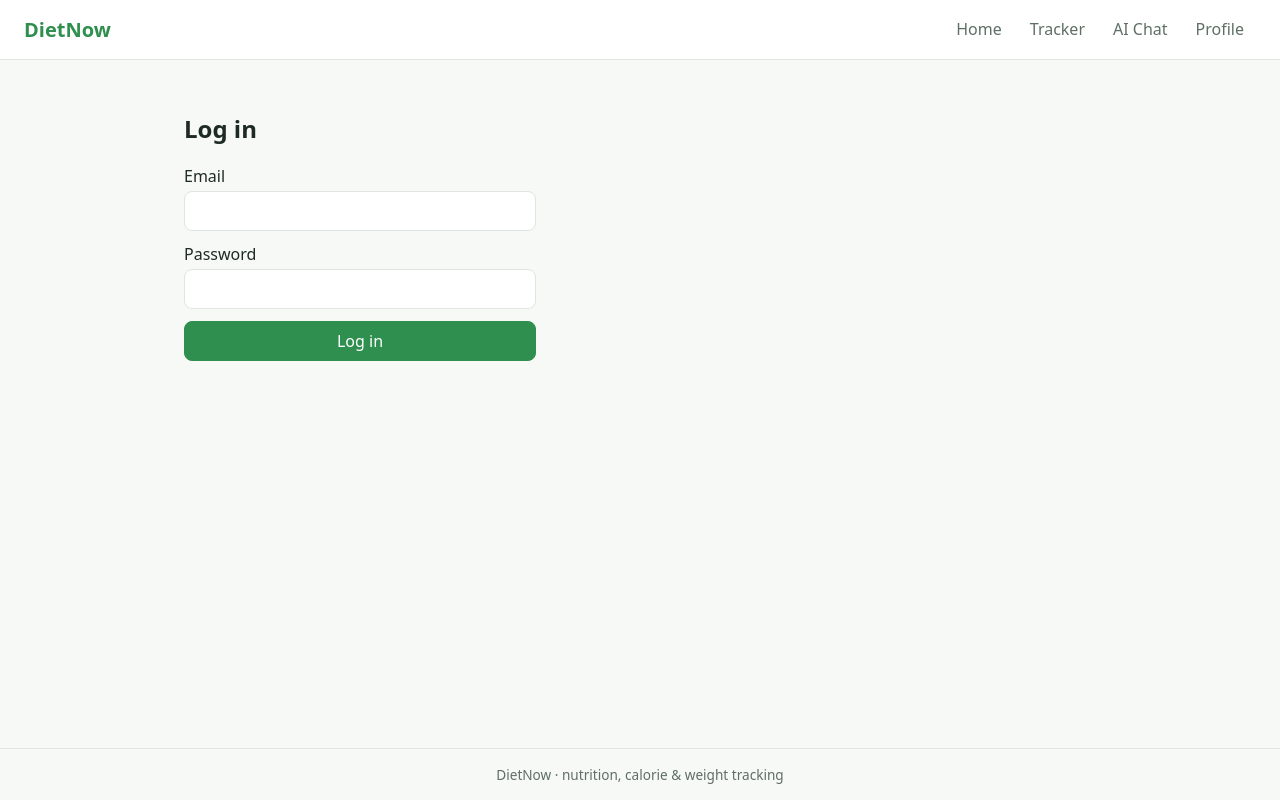
updates navigation after submitting /login despite a late session lookup
This screenshot has width=1280, height=800.
In the field labelled "Email": (360, 211) [184,191,536,231], type "test@dietnow.app"
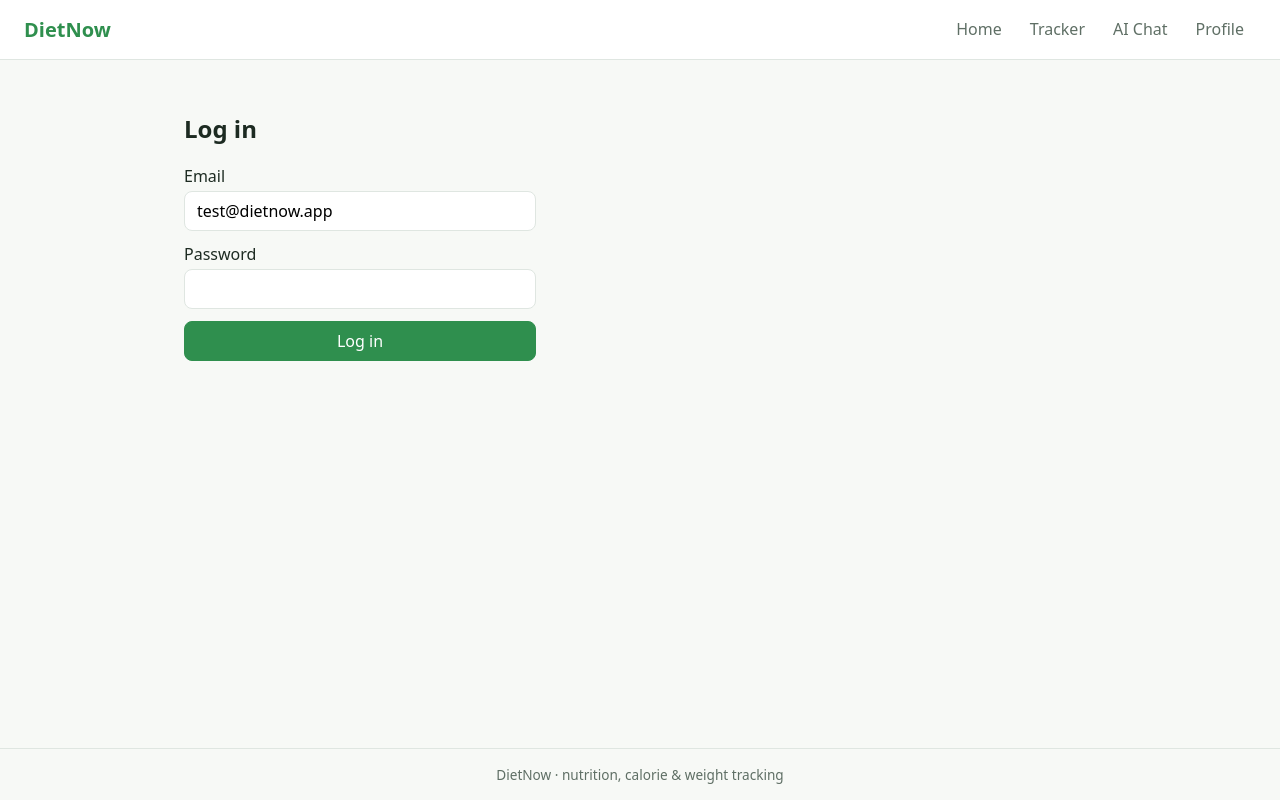
In the password field labelled "Password": (360, 289) [184,269,536,309], type "Password123!"
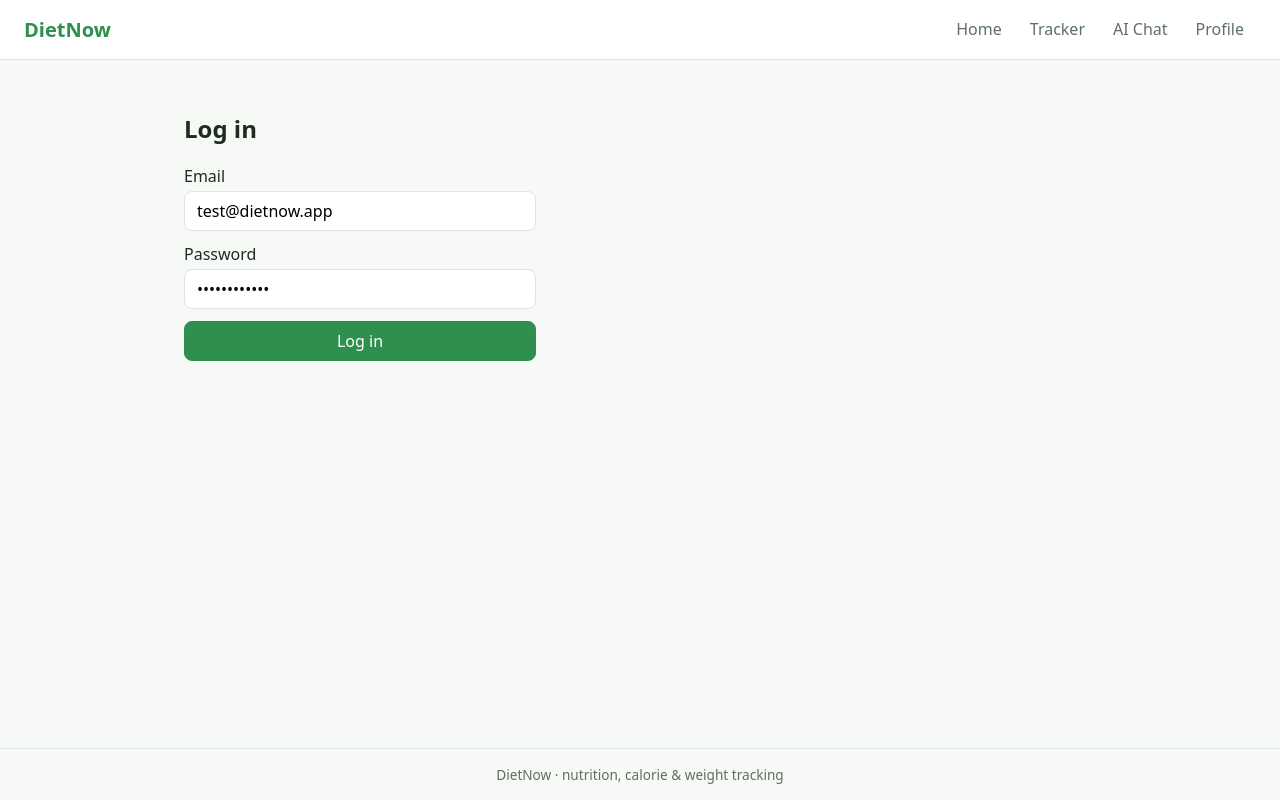
Click the button "Log in": (360, 341) [184,321,536,361]
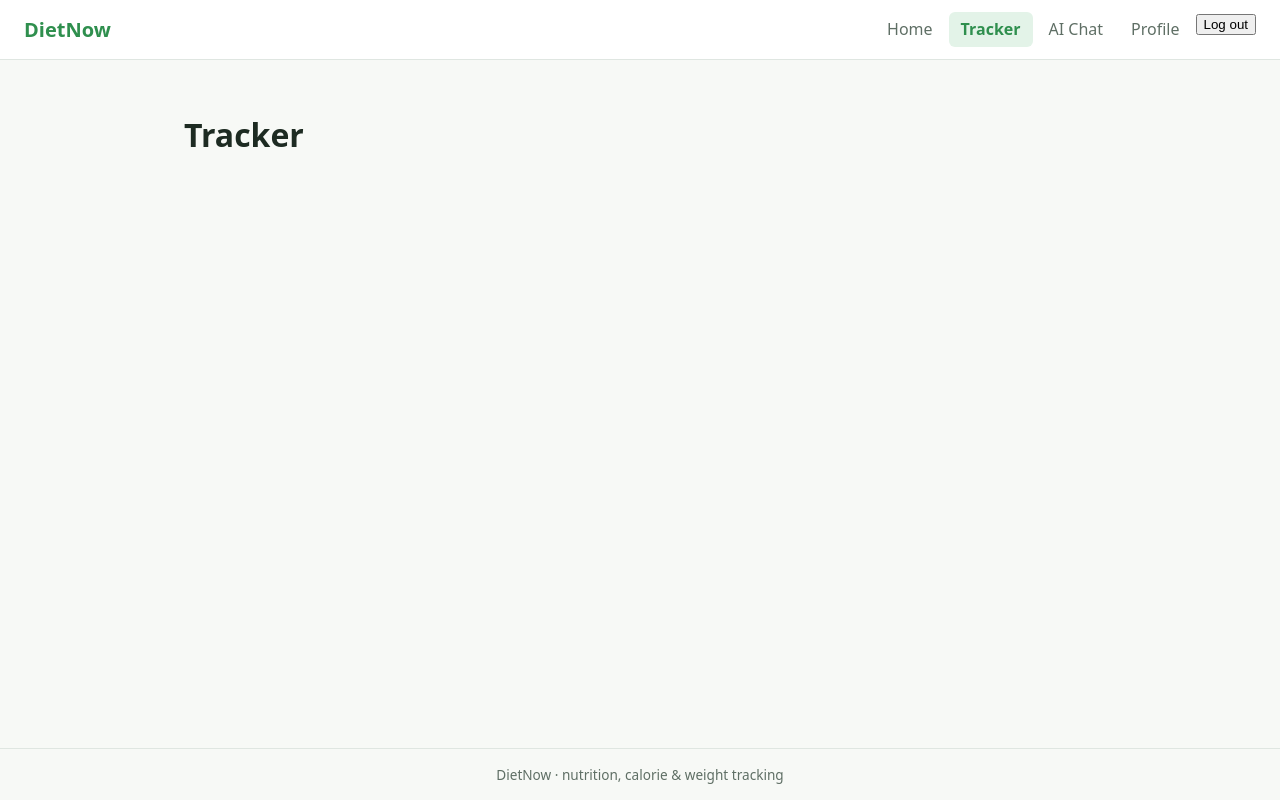
Expected: the heading "Tracker" is shown, [184,113,304,156]
Expected: the button "Log out" is shown, [1196,14,1256,35]
